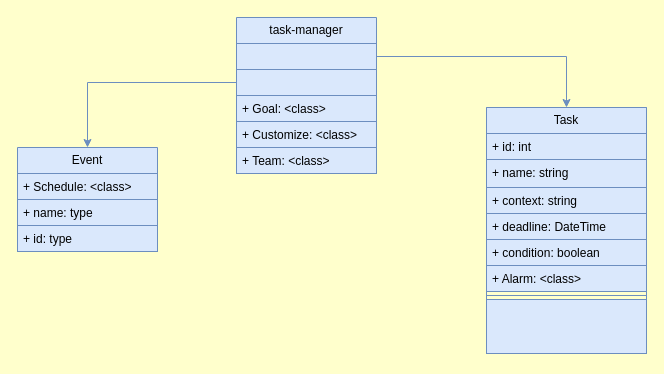
Image size: 664x374. Some labels were removed from this diagram. The centre of each missing label's shape, as x and y in pixels:
+ Event: <class>: the point at 306,82
+ reverse-condition(condition): boolean: the point at 566,326
+ Task: <class>: the point at 306,56
